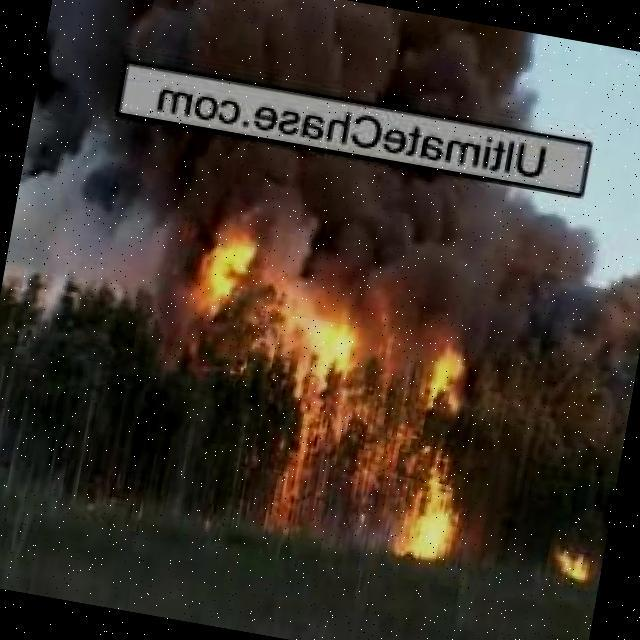Fire: (273, 312, 498, 555), (168, 164, 279, 357), (543, 533, 605, 587)
